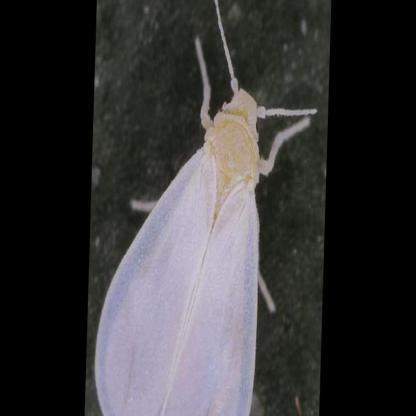whitefly: (94, 0, 322, 416)
